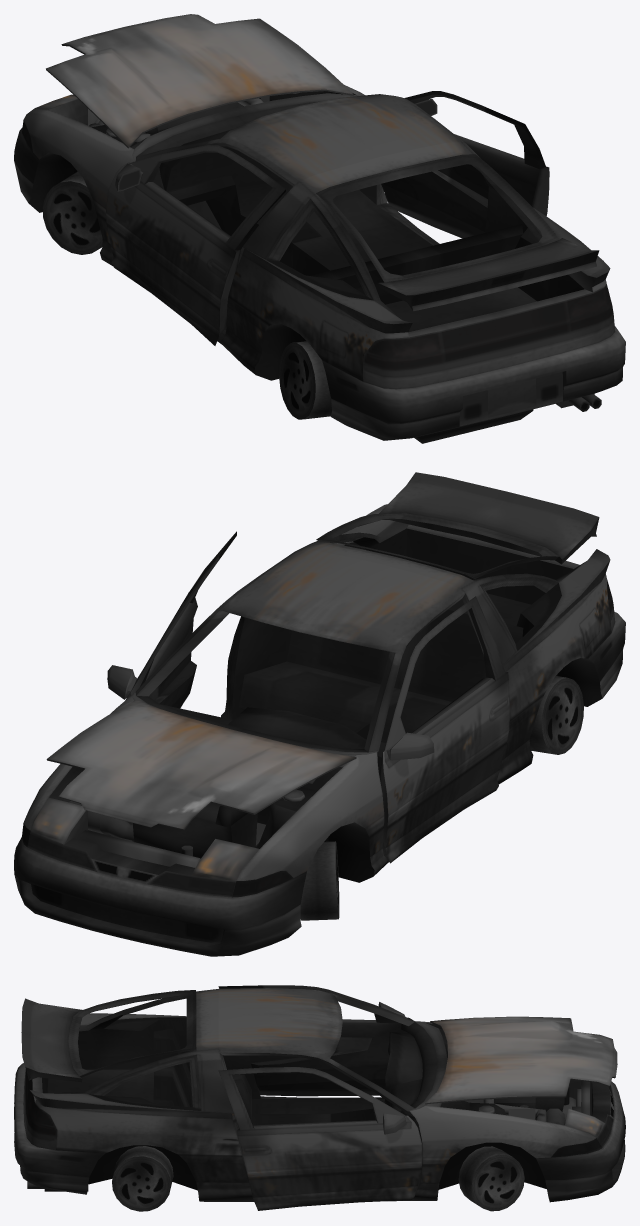
The model's file is Vehicle_en91_Eclipse_Burned.fbx.
3 renders of one model, top to bottom at view 1: azimuth 30°, elevation 25°; view 2: azimuth 150°, elevation 25°; view 3: azimuth 270°, elevation 25°, orthographic. The views are drawn at different scales.
Parts seen in each view (by area): view 1: Burned; view 2: Burned; view 3: Burned.
Part boxes in pixels (x1,y1,x2,y2): Burned: [14, 14, 625, 443]; Burned: [14, 472, 625, 956]; Burned: [14, 985, 625, 1211].
Size of the model in its own units: 427 by 233 by 864.
